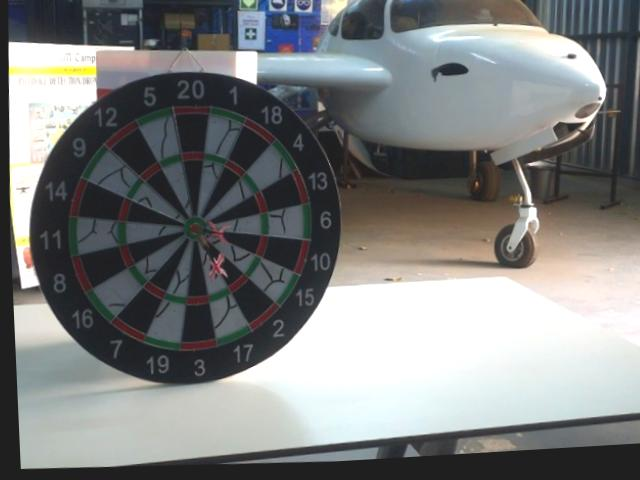bullseye: (191, 224, 202, 233)
